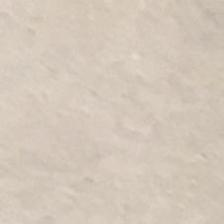Non_Crack: (15, 20, 206, 190)
